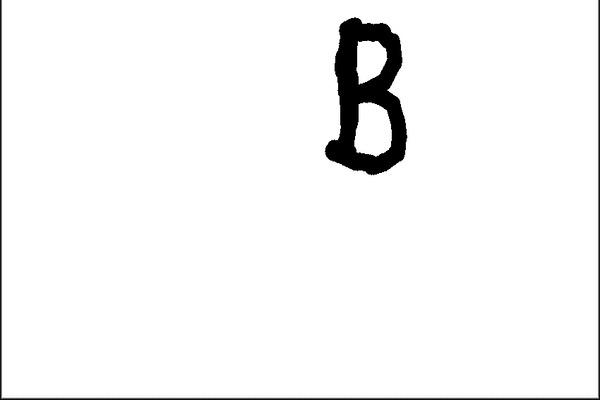B: (308, 9, 419, 176)
